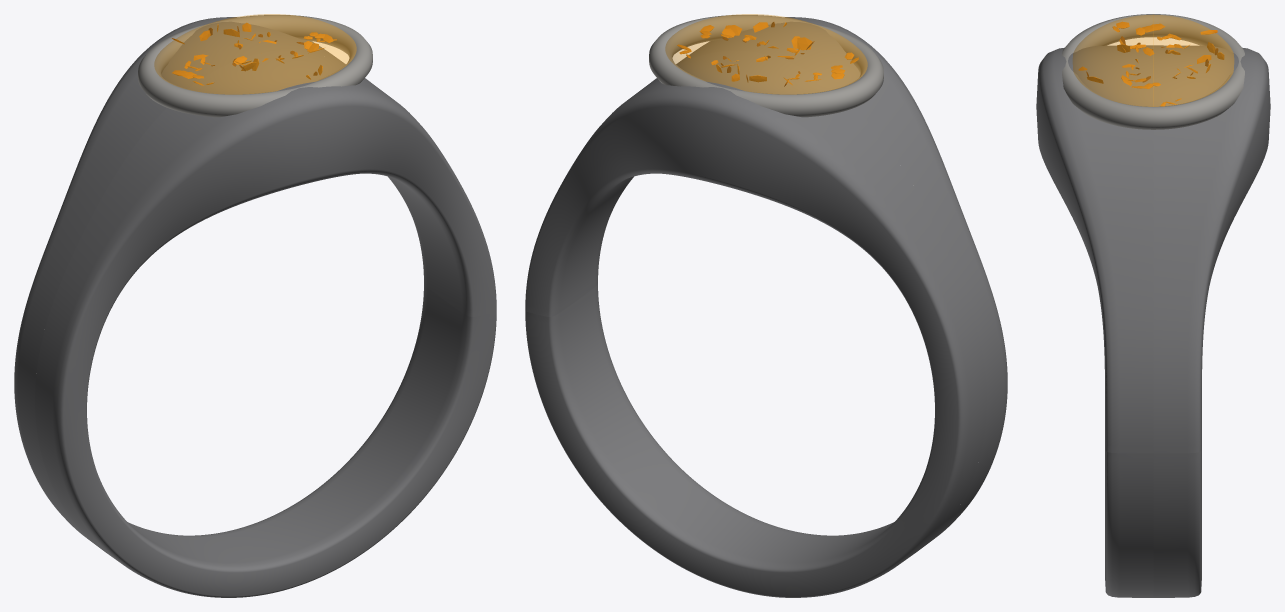
Rendered from corven_ring.glb.
3 renders of one model, left to right at view 1: azimuth 30°, elevation 25°; view 2: azimuth 150°, elevation 25°; view 3: azimuth 270°, elevation 25°, orthographic.
Visible parts, largest first — view 1: Softly polished dark iron, Honey amber translucent resin, Worn iron setting edge, Golden resin fracture flakes; view 2: Softly polished dark iron, Honey amber translucent resin, Worn iron setting edge, Golden resin fracture flakes; view 3: Softly polished dark iron, Honey amber translucent resin, Worn iron setting edge, Golden resin fracture flakes.
Boxes of the visible parts, <box> form: Softly polished dark iron: <box>14,17,496,597</box>; Honey amber translucent resin: <box>154,14,356,94</box>; Worn iron setting edge: <box>138,15,372,117</box>; Golden resin fracture flakes: <box>172,23,336,85</box>; Softly polished dark iron: <box>525,17,1007,597</box>; Honey amber translucent resin: <box>665,14,867,94</box>; Worn iron setting edge: <box>649,15,883,117</box>; Golden resin fracture flakes: <box>677,22,858,86</box>; Softly polished dark iron: <box>1036,45,1270,597</box>; Honey amber translucent resin: <box>1073,14,1233,106</box>; Worn iron setting edge: <box>1062,14,1244,129</box>; Golden resin fracture flakes: <box>1078,21,1224,106</box>.
Size of the model in its own units: 0.0233 by 0.0275 by 0.0109.
